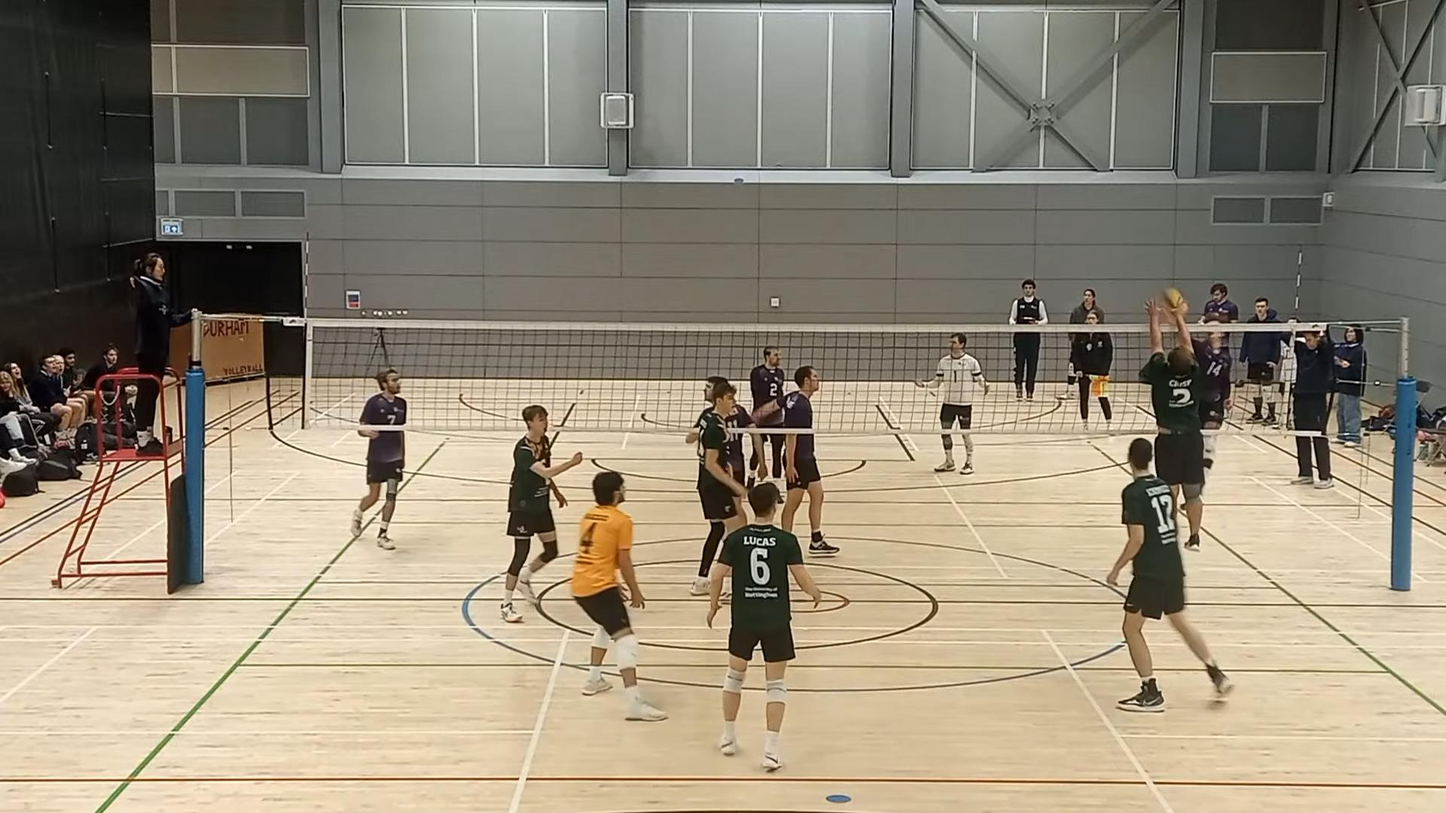Attack: (1162, 288, 1233, 506)
Block: (1138, 296, 1209, 555)
Player: (1106, 438, 1231, 711), (707, 483, 821, 771), (571, 471, 667, 720), (499, 405, 582, 622), (753, 366, 838, 556), (688, 376, 745, 595), (915, 333, 988, 473), (352, 430, 404, 550), (725, 395, 755, 489), (750, 346, 785, 411)
ball: (1159, 290, 1193, 312)
